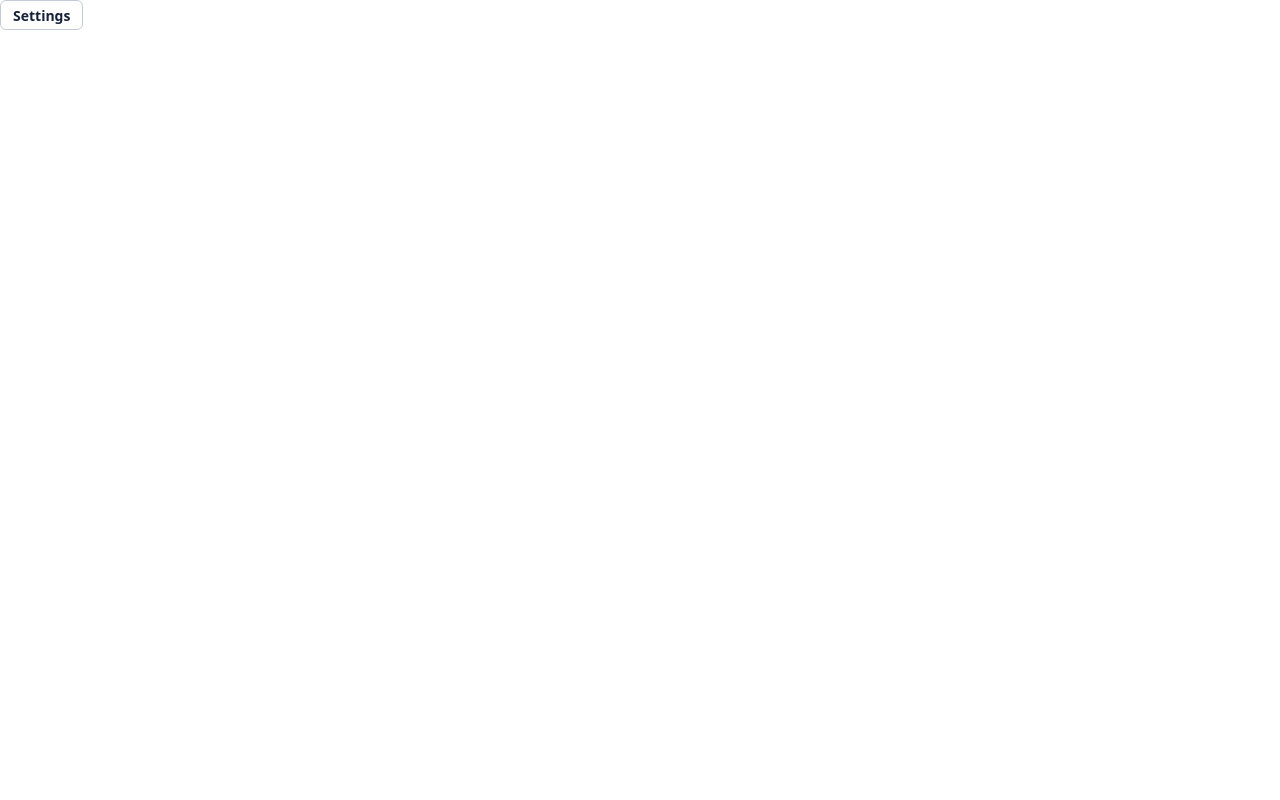
SettingsButton › searches names and descriptions across categories and highlights the matches
This screenshot has width=1280, height=800.
Later steps or results of the test are not shown.
Click the button "Settings": (42, 15) [0,0,83,30]
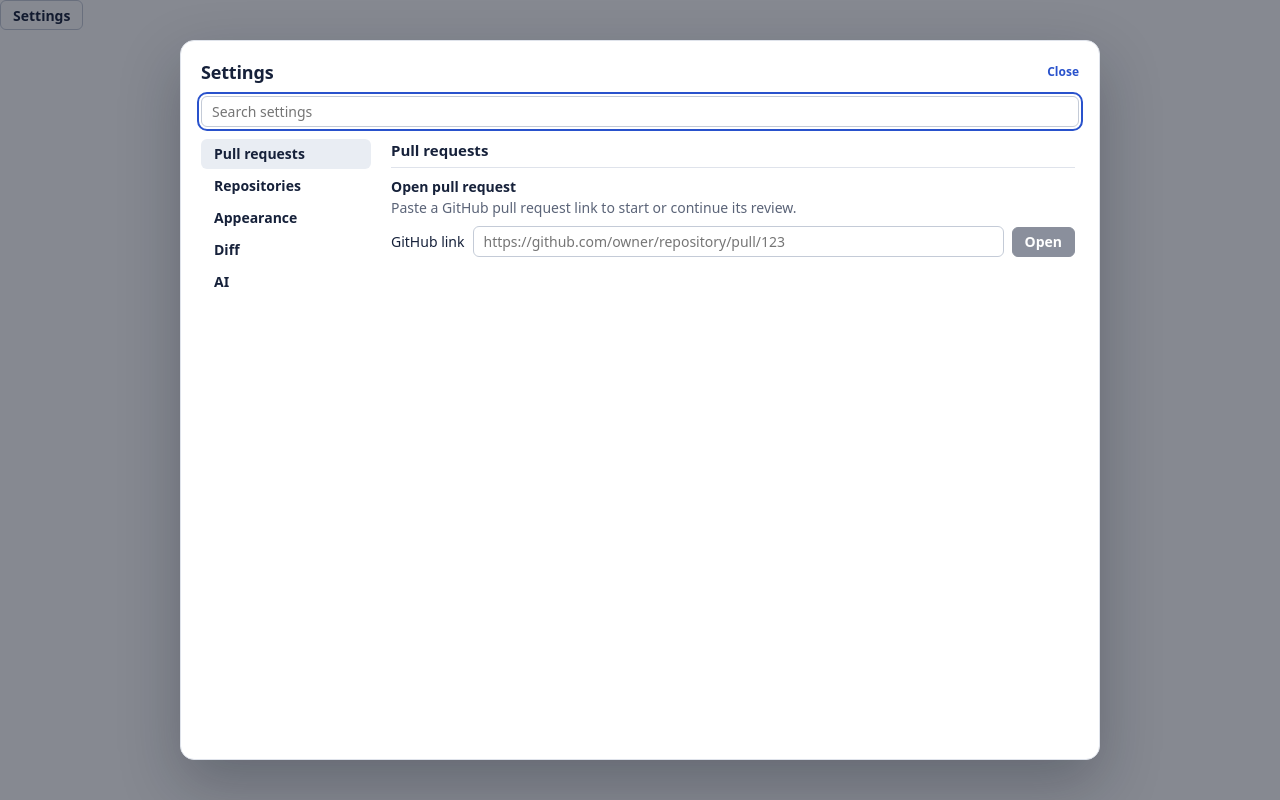
In the search field labelled "Search settings": (640, 111) [201,96,1079,126], type "WRAP"
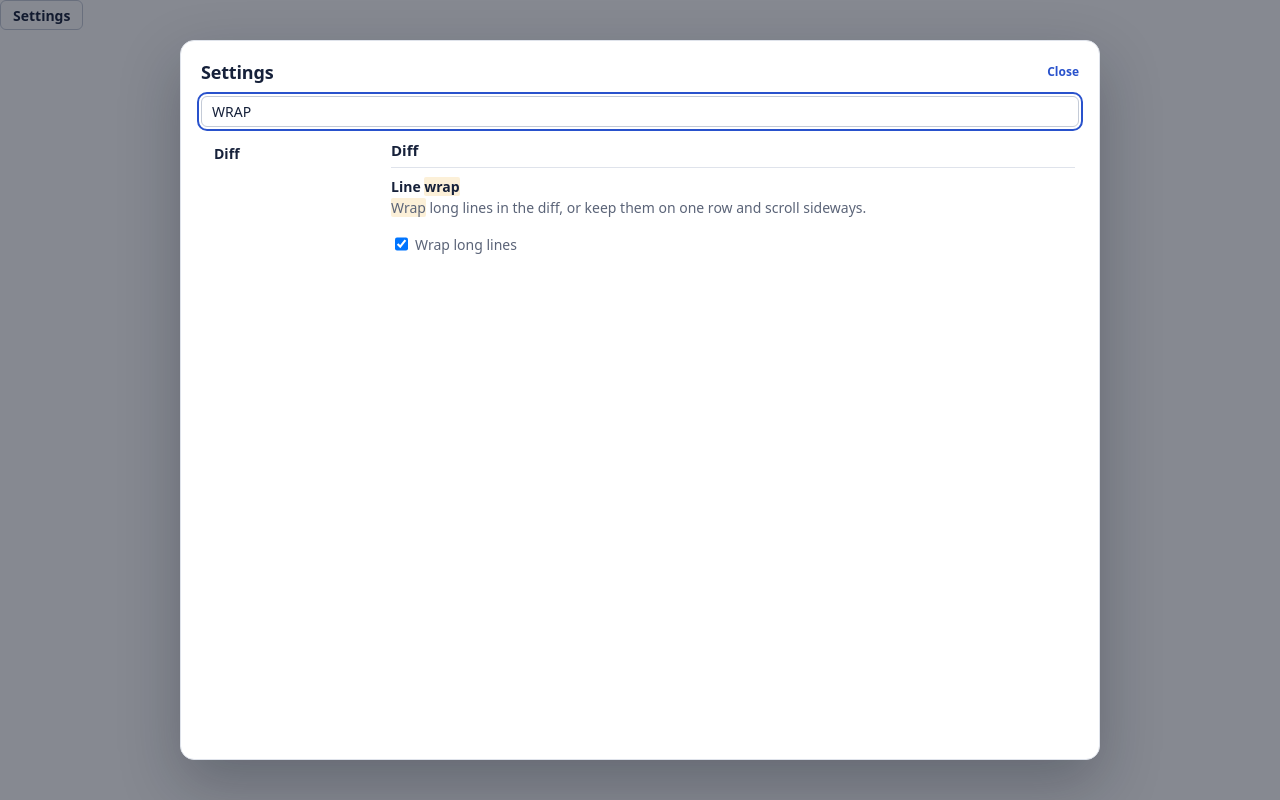
Expected: the buttons read "Diff", in this order, [201,138,371,168]
Replace the text in the search field named "Search settings" with "model": (640, 111) [201,96,1079,126]
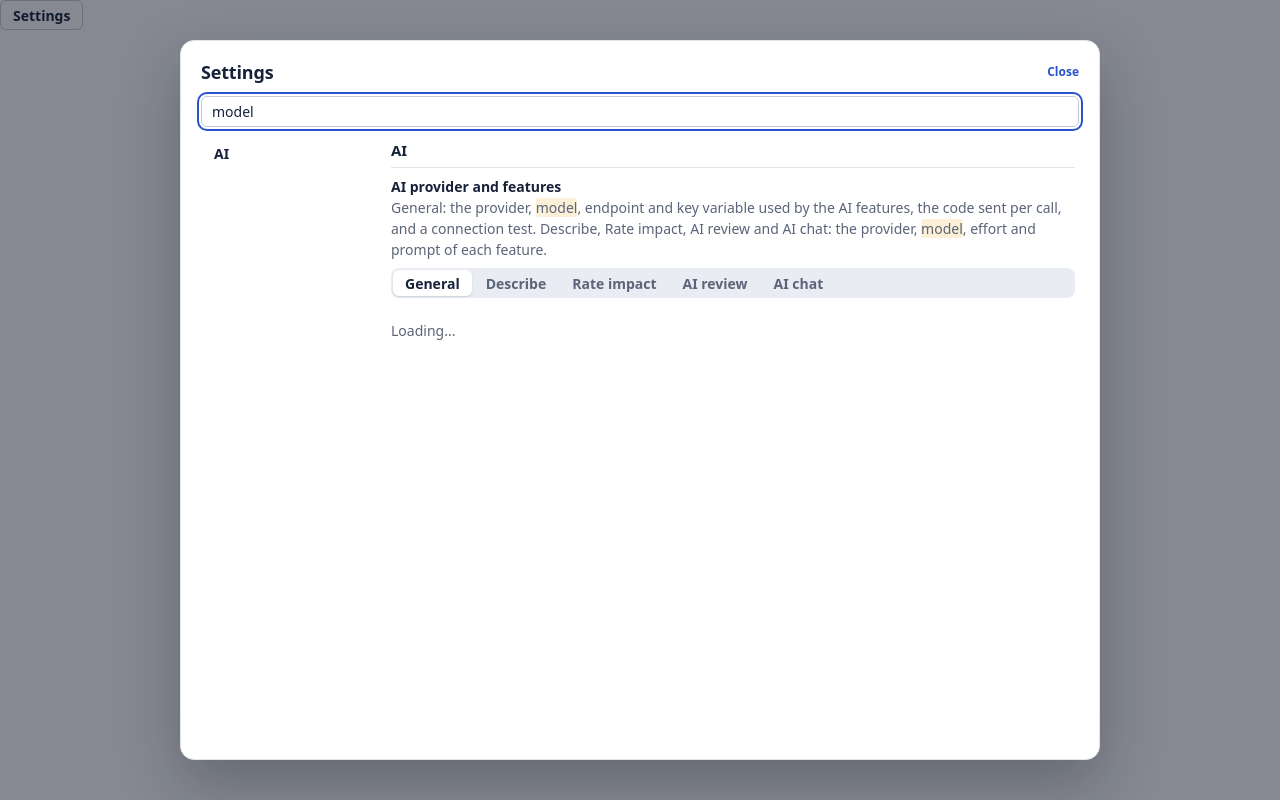
Replace the text in the search field named "Search settings" with "effort": (640, 111) [201,96,1079,126]
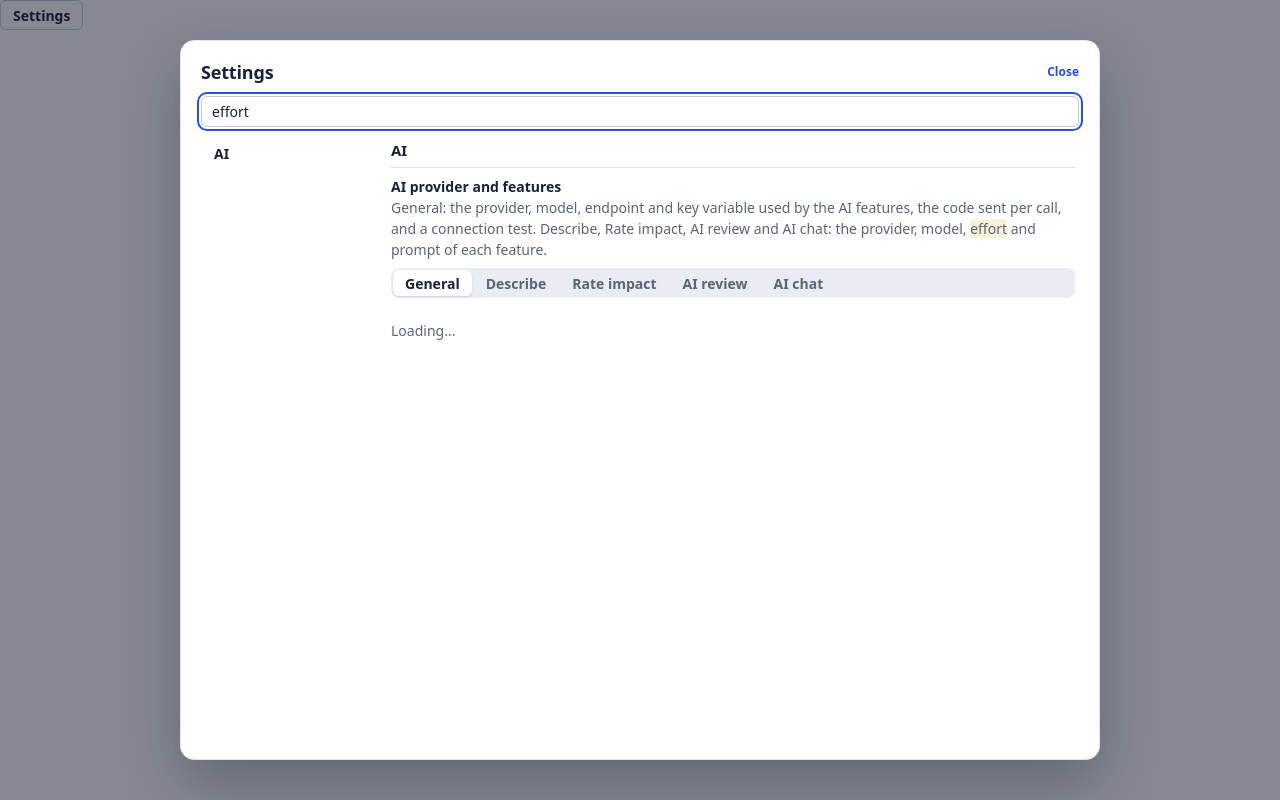
Replace the text in the search field named "Search settings" with "font": (640, 111) [201,96,1079,126]
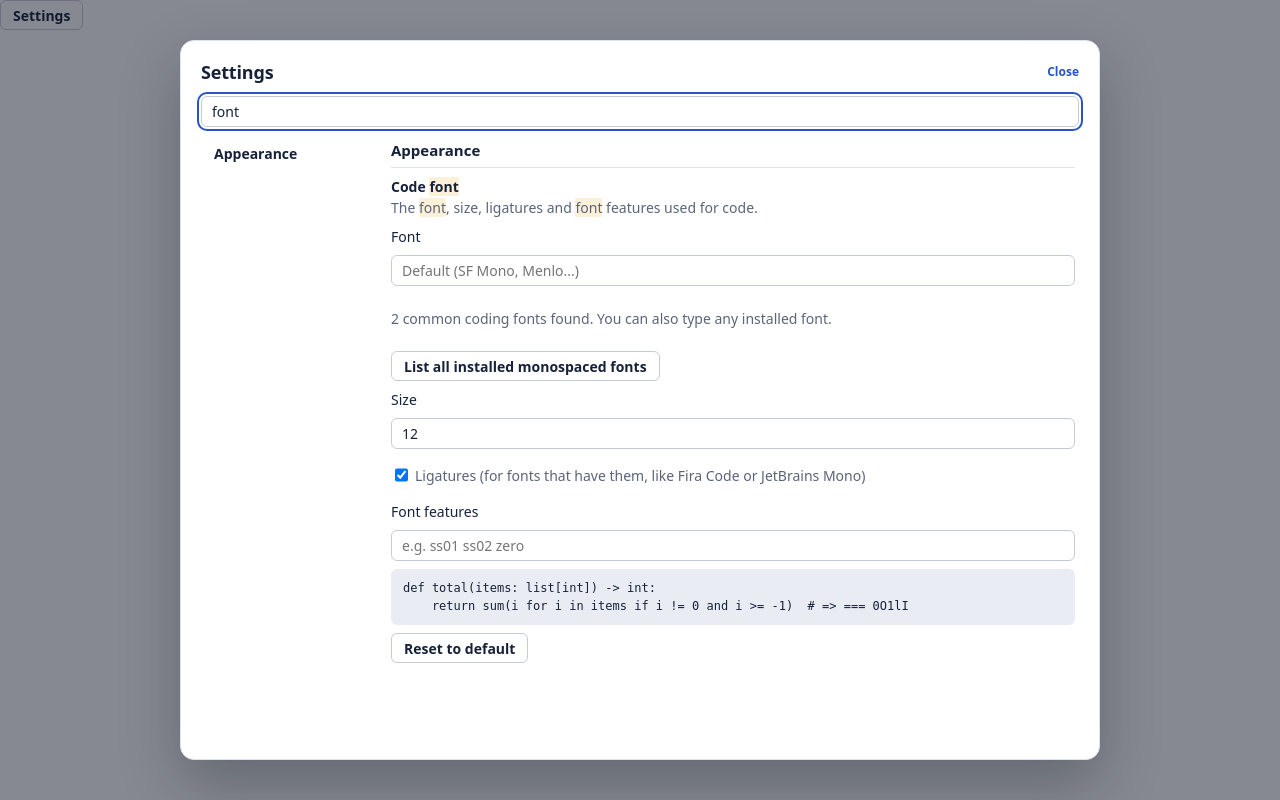
Expected: the buttons read "Appearance", in this order, [201,138,371,168]
